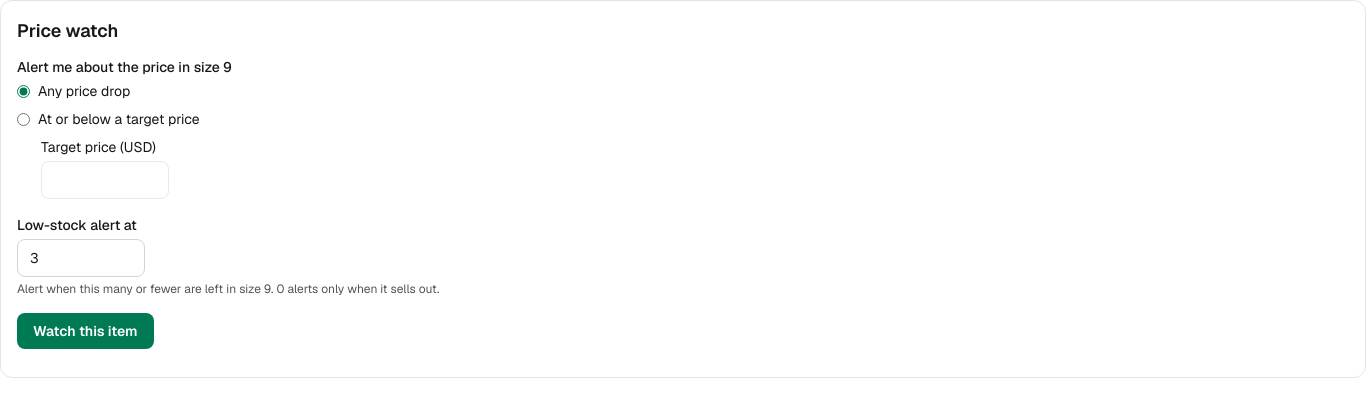
Test case: WatchPanel › rejects low-stock -1
The image size is (1366, 395).
Replace the text in the field labelled "Low-stock alert at" with "-1" at (81, 258), box [17,239,145,277]
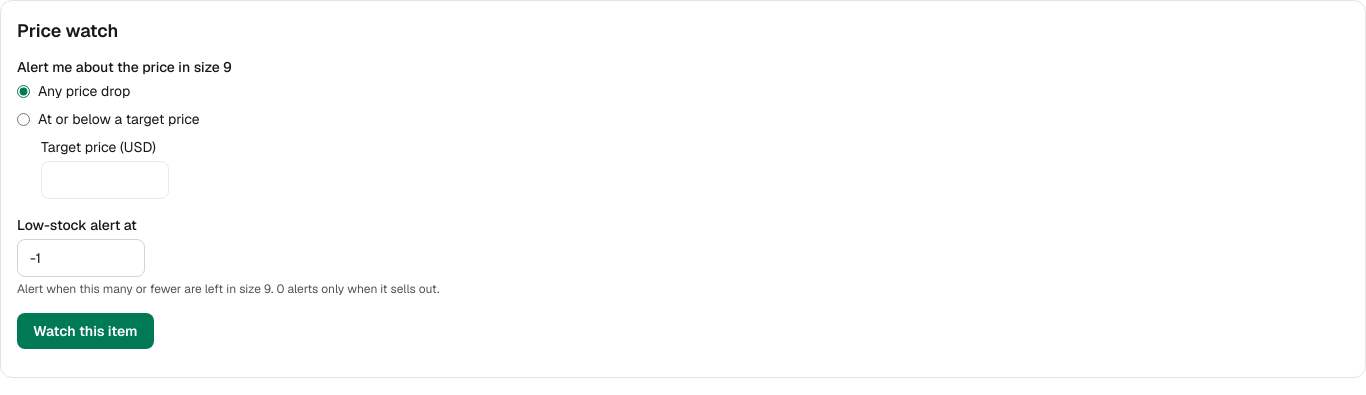
Click the button "Watch this item" at (85, 331), box [17,313,154,349]
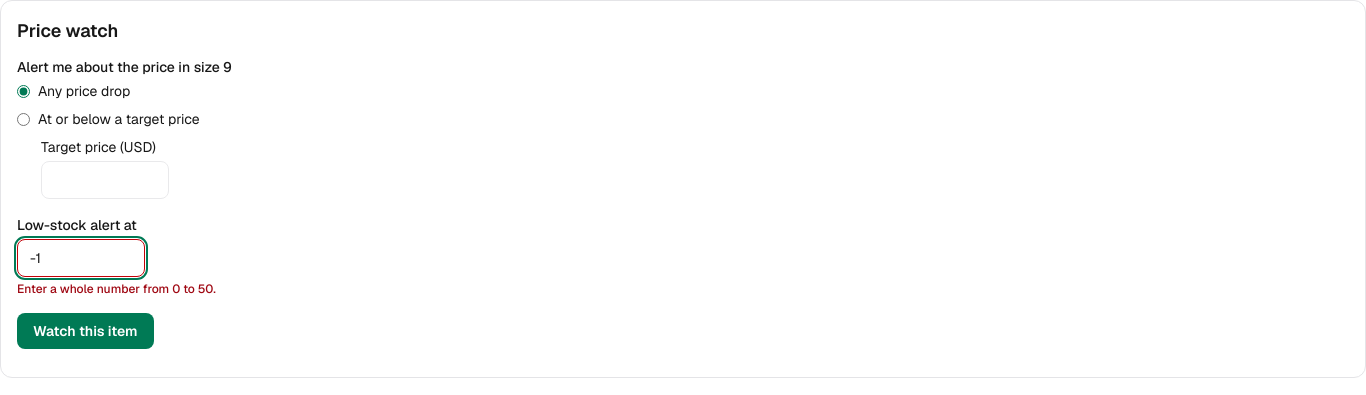
Expected: the text "Enter a whole number from 0 to 50." is shown, [17,281,216,297]
